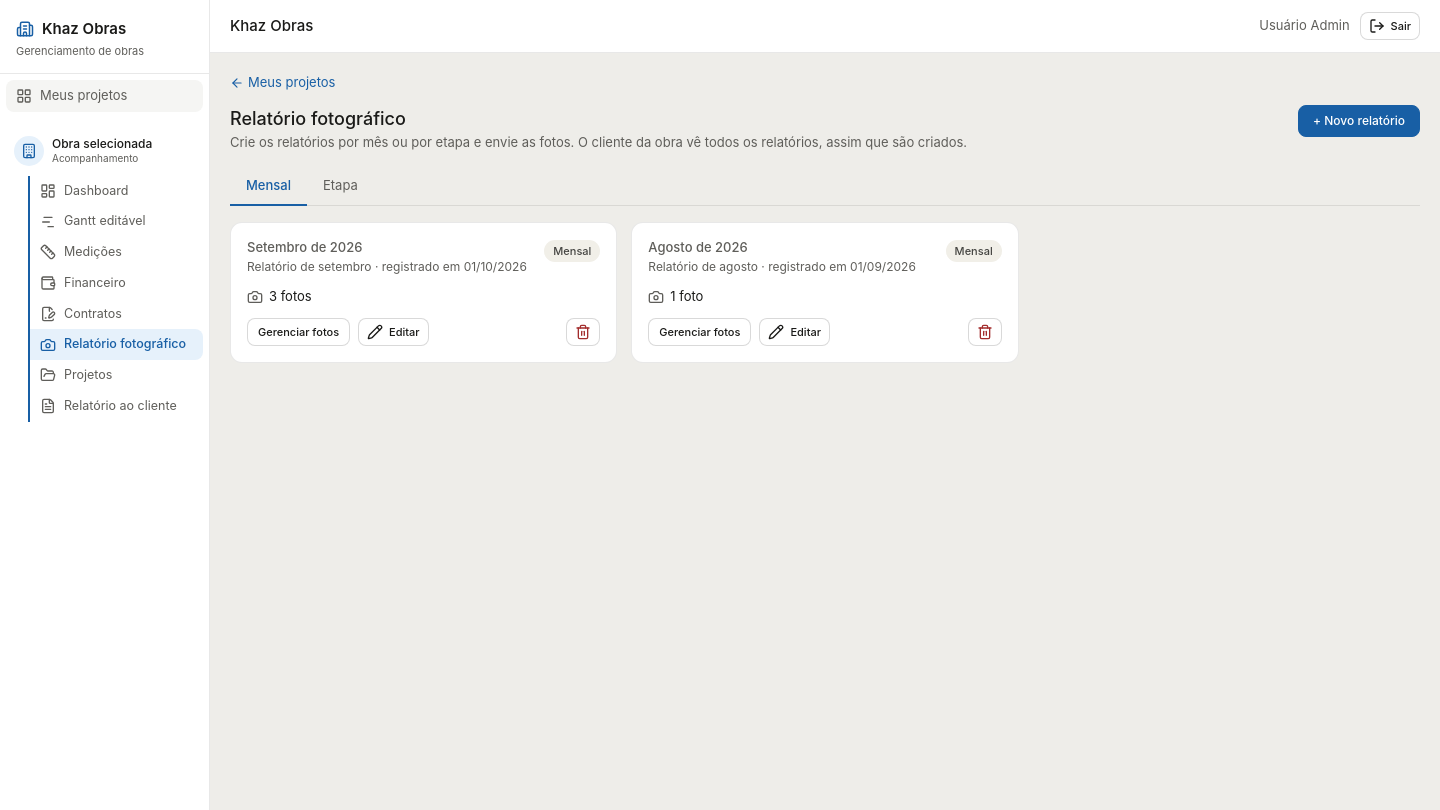
Relatório fotográfico (admin) - lista › aba Etapa mostra o nome da etapa como título e o título digitado na descrição
Click the tab "Etapa": x=340, y=187 [307,168,374,206]
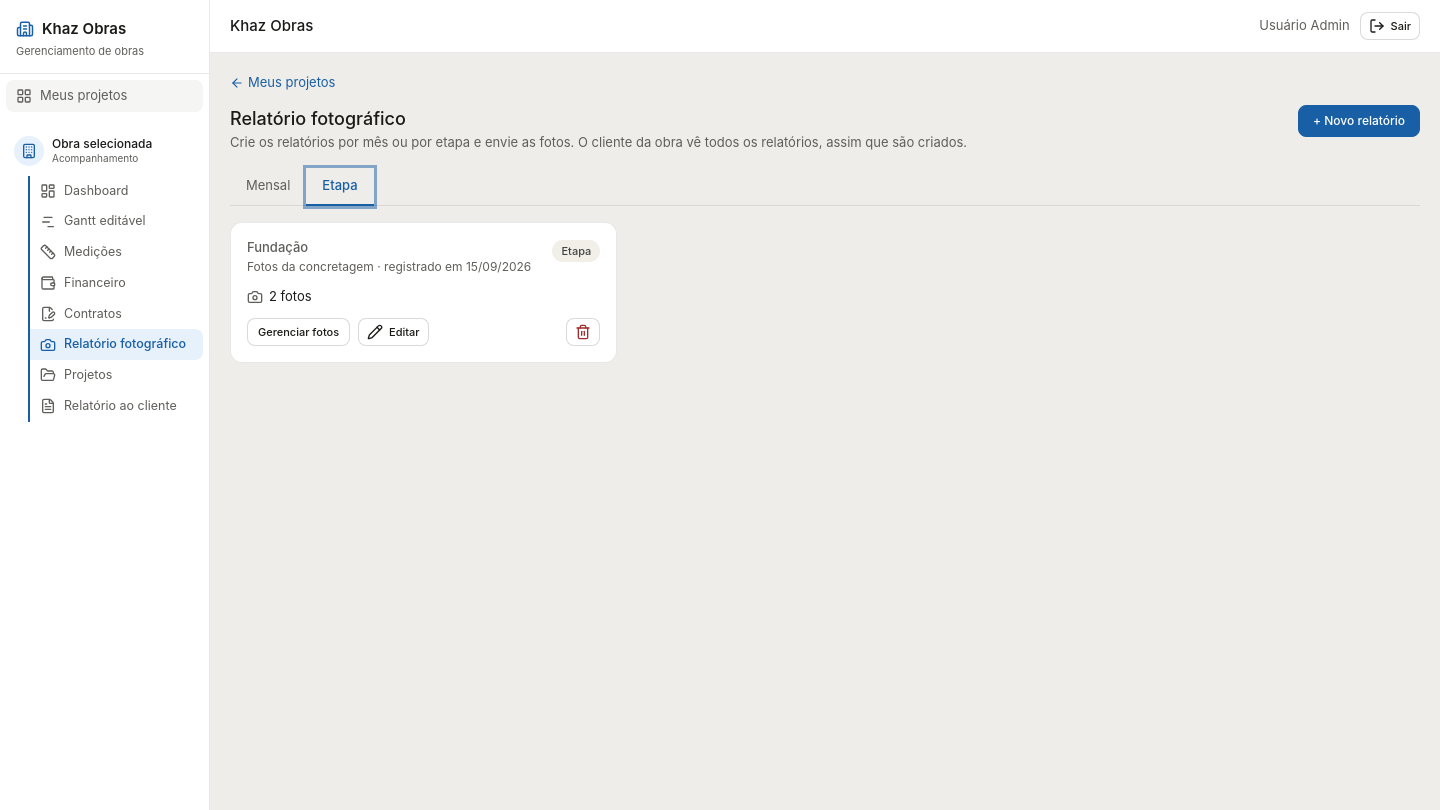
Check: the heading "Fundação" is shown, box [247,238,308,255]
Check: the text "Fotos da concretagem · registrado em 15/09/2026" is shown, box [247,259,548,275]
Check: the text "2 fotos" is shown, box [247,288,312,305]
